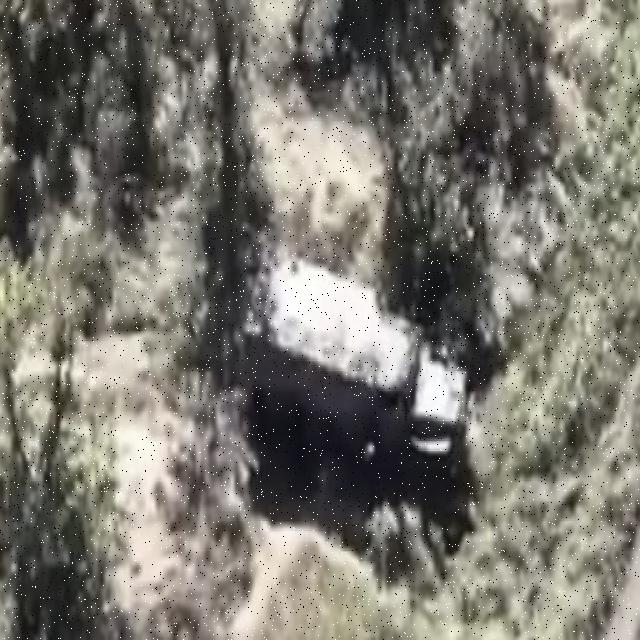TRUCK: (242, 233, 473, 491)
